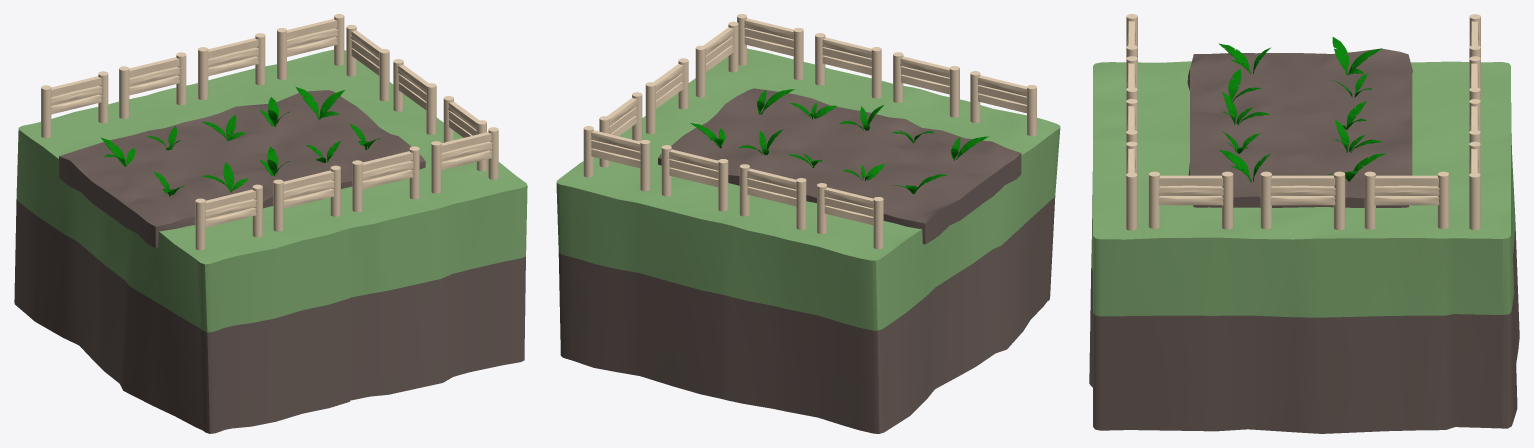
File: farm1_map1.fbx
The picture shows the model from 3 angles, left to right: view 1: azimuth 30°, elevation 25°; view 2: azimuth 150°, elevation 25°; view 3: azimuth 270°, elevation 25°; orthographic projection. The views are drawn at different scales.
Visible parts, largest first — view 1: groundddd, island1:pPlane6, pCylinder13, pCylinder12, pCylinder9, pCylinder14, pCylinder8, pCylinder11, pCylinder10, pCylinder15, pCylinder6, pCylinder16 (+2 smaller); view 2: groundddd, island1:pPlane6, pCylinder13, pCylinder14, pCylinder15, pCylinder9, pCylinder10, pCylinder12, pCylinder11, pCylinder8, pCylinder6, pCylinder7 (+1 smaller); view 3: groundddd, island1:pPlane6, pCylinder6, pCylinder7, pCylinder16, pCylinder8, pCylinder15, veg9, pCylinder12, pCylinder11, pCylinder10, pCylinder13 (+5 smaller).
Part boxes in pixels (bbox=[...]): groundddd: bbox=[14, 49, 527, 433]; island1:pPlane6: bbox=[59, 90, 425, 248]; pCylinder13: bbox=[119, 52, 186, 118]; pCylinder12: bbox=[41, 71, 108, 138]; pCylinder9: bbox=[352, 146, 419, 212]; pCylinder14: bbox=[198, 33, 265, 99]; pCylinder8: bbox=[431, 127, 498, 193]; pCylinder11: bbox=[195, 184, 262, 250]; pCylinder10: bbox=[273, 165, 340, 231]; pCylinder15: bbox=[277, 14, 344, 79]; pCylinder6: bbox=[393, 59, 436, 134]; pCylinder16: bbox=[346, 24, 389, 101]; groundddd: bbox=[556, 48, 1060, 433]; island1:pPlane6: bbox=[658, 88, 1021, 244]; pCylinder13: bbox=[739, 164, 806, 229]; pCylinder14: bbox=[661, 145, 728, 211]; pCylinder15: bbox=[583, 126, 650, 191]; pCylinder9: bbox=[815, 33, 881, 98]; pCylinder10: bbox=[893, 52, 959, 117]; pCylinder12: bbox=[817, 183, 883, 249]; pCylinder11: bbox=[970, 71, 1036, 136]; pCylinder8: bbox=[737, 14, 803, 79]; pCylinder6: bbox=[645, 58, 688, 134]; pCylinder7: bbox=[695, 21, 738, 97]; groundddd: bbox=[1089, 61, 1519, 433]; island1:pPlane6: bbox=[1187, 48, 1412, 207]; pCylinder6: bbox=[1260, 171, 1345, 230]; pCylinder7: bbox=[1148, 171, 1233, 229]; pCylinder16: bbox=[1364, 171, 1448, 229]; pCylinder8: bbox=[1126, 141, 1137, 230]; pCylinder15: bbox=[1469, 141, 1480, 229]; veg9: bbox=[1332, 37, 1382, 75]; pCylinder12: bbox=[1469, 14, 1480, 99]; pCylinder11: bbox=[1126, 14, 1137, 68]; pCylinder10: bbox=[1126, 56, 1137, 100]; pCylinder13: bbox=[1469, 56, 1480, 100].
Size of the model in its own units: 20.78 by 12.89 by 20.34.
